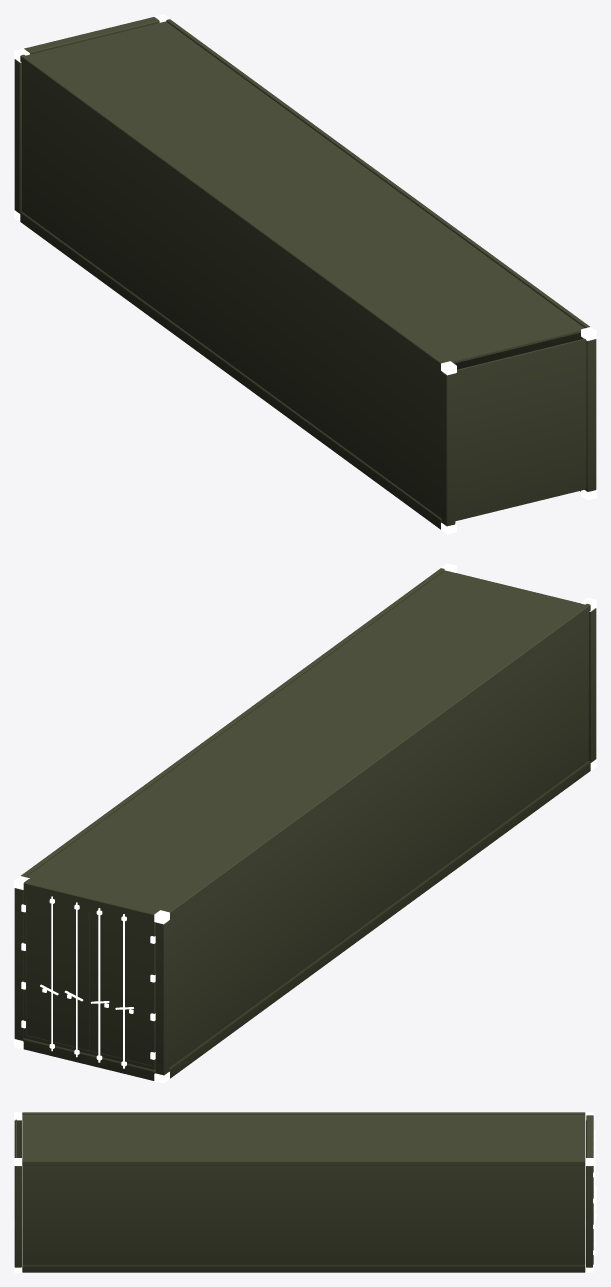
File: iso_container_40_od.glb
The picture shows the model from 3 angles, top to bottom: view 1: azimuth 30°, elevation 25°; view 2: azimuth 150°, elevation 25°; view 3: azimuth 270°, elevation 25°; orthographic projection. The views are drawn at different scales.
Visible parts, largest first — view 1: iso_container_40_od_LOD0; view 2: iso_container_40_od_LOD0; view 3: iso_container_40_od_LOD0.
Boxes of the visible parts, left/top/right/bottom form: iso_container_40_od_LOD0: left=14, top=14, right=596, bottom=534; iso_container_40_od_LOD0: left=14, top=563, right=596, bottom=1083; iso_container_40_od_LOD0: left=14, top=1112, right=596, bottom=1272.
Size of what is drawn, in the model's own units: 2.44 by 2.59 by 12.26.
